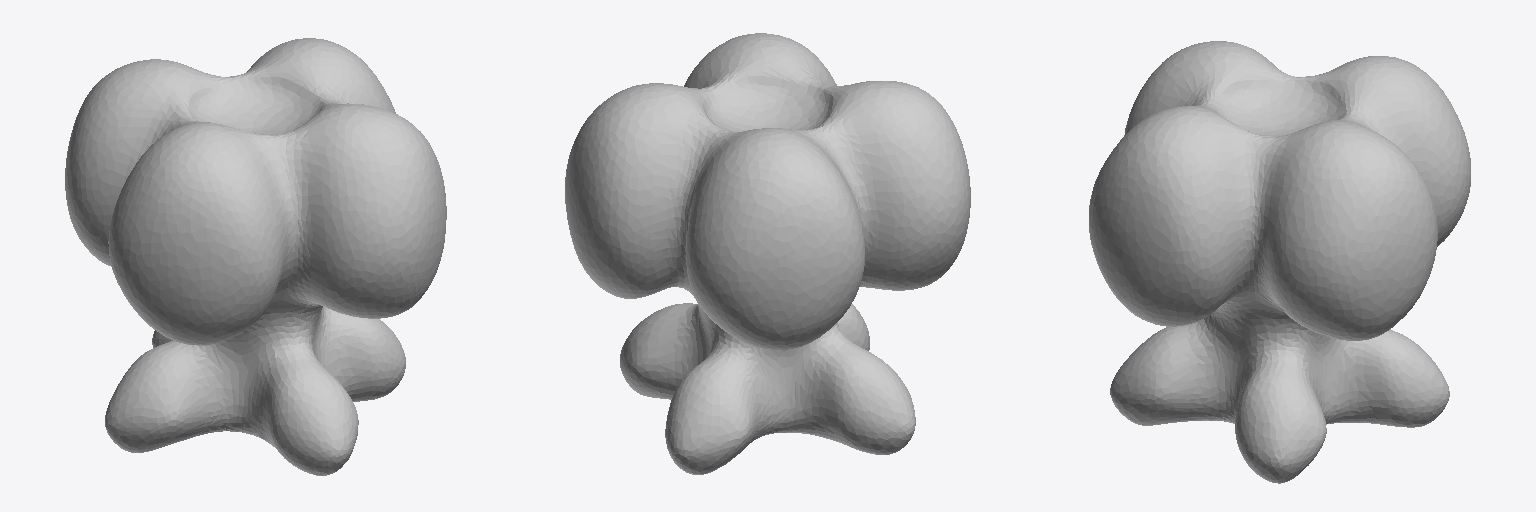
Rendered from grow-simple.obj.
3 renders of one model, left to right at view 1: azimuth 30°, elevation 25°; view 2: azimuth 150°, elevation 25°; view 3: azimuth 270°, elevation 25°, orthographic.
Parts seen in each view (by area): view 1: Quad_Sphere; view 2: Quad_Sphere; view 3: Quad_Sphere.
Boxes of the visible parts, <box> form: Quad_Sphere: <box>65,38,446,475</box>; Quad_Sphere: <box>565,33,970,474</box>; Quad_Sphere: <box>1089,41,1470,483</box>.
Bounding box in the file's own units: 3.7 × 3.58 × 3.7.